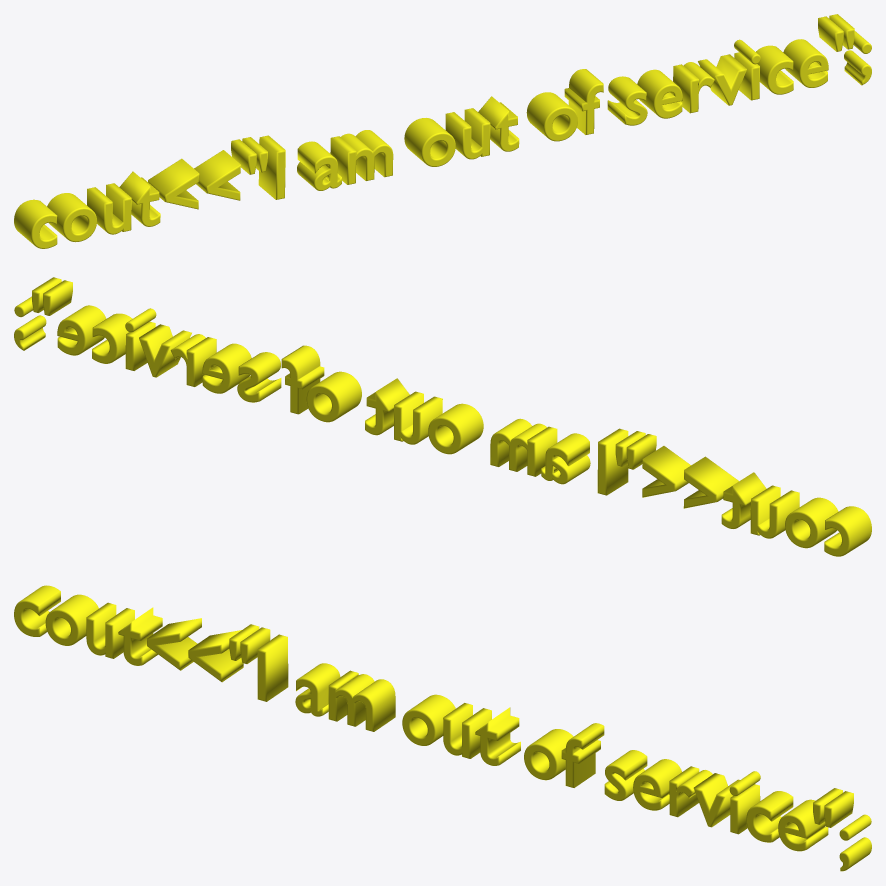
The model's file is cout___I am out of service_;.glb.
3 views of the same model, one above another, from view 1: azimuth 30°, elevation 25°; view 2: azimuth 150°, elevation 25°; view 3: azimuth 330°, elevation 25° (orthographic). The views are drawn at different scales.
Visible parts, largest first — view 1: Text; view 2: Text; view 3: Text.
Part boxes in pixels (x1,y1,x2,y2): Text: (14, 14, 871, 248); Text: (14, 277, 871, 556); Text: (14, 585, 871, 871).
Size of the model in its own units: 12.82 by 0.9627 by 1.16.
